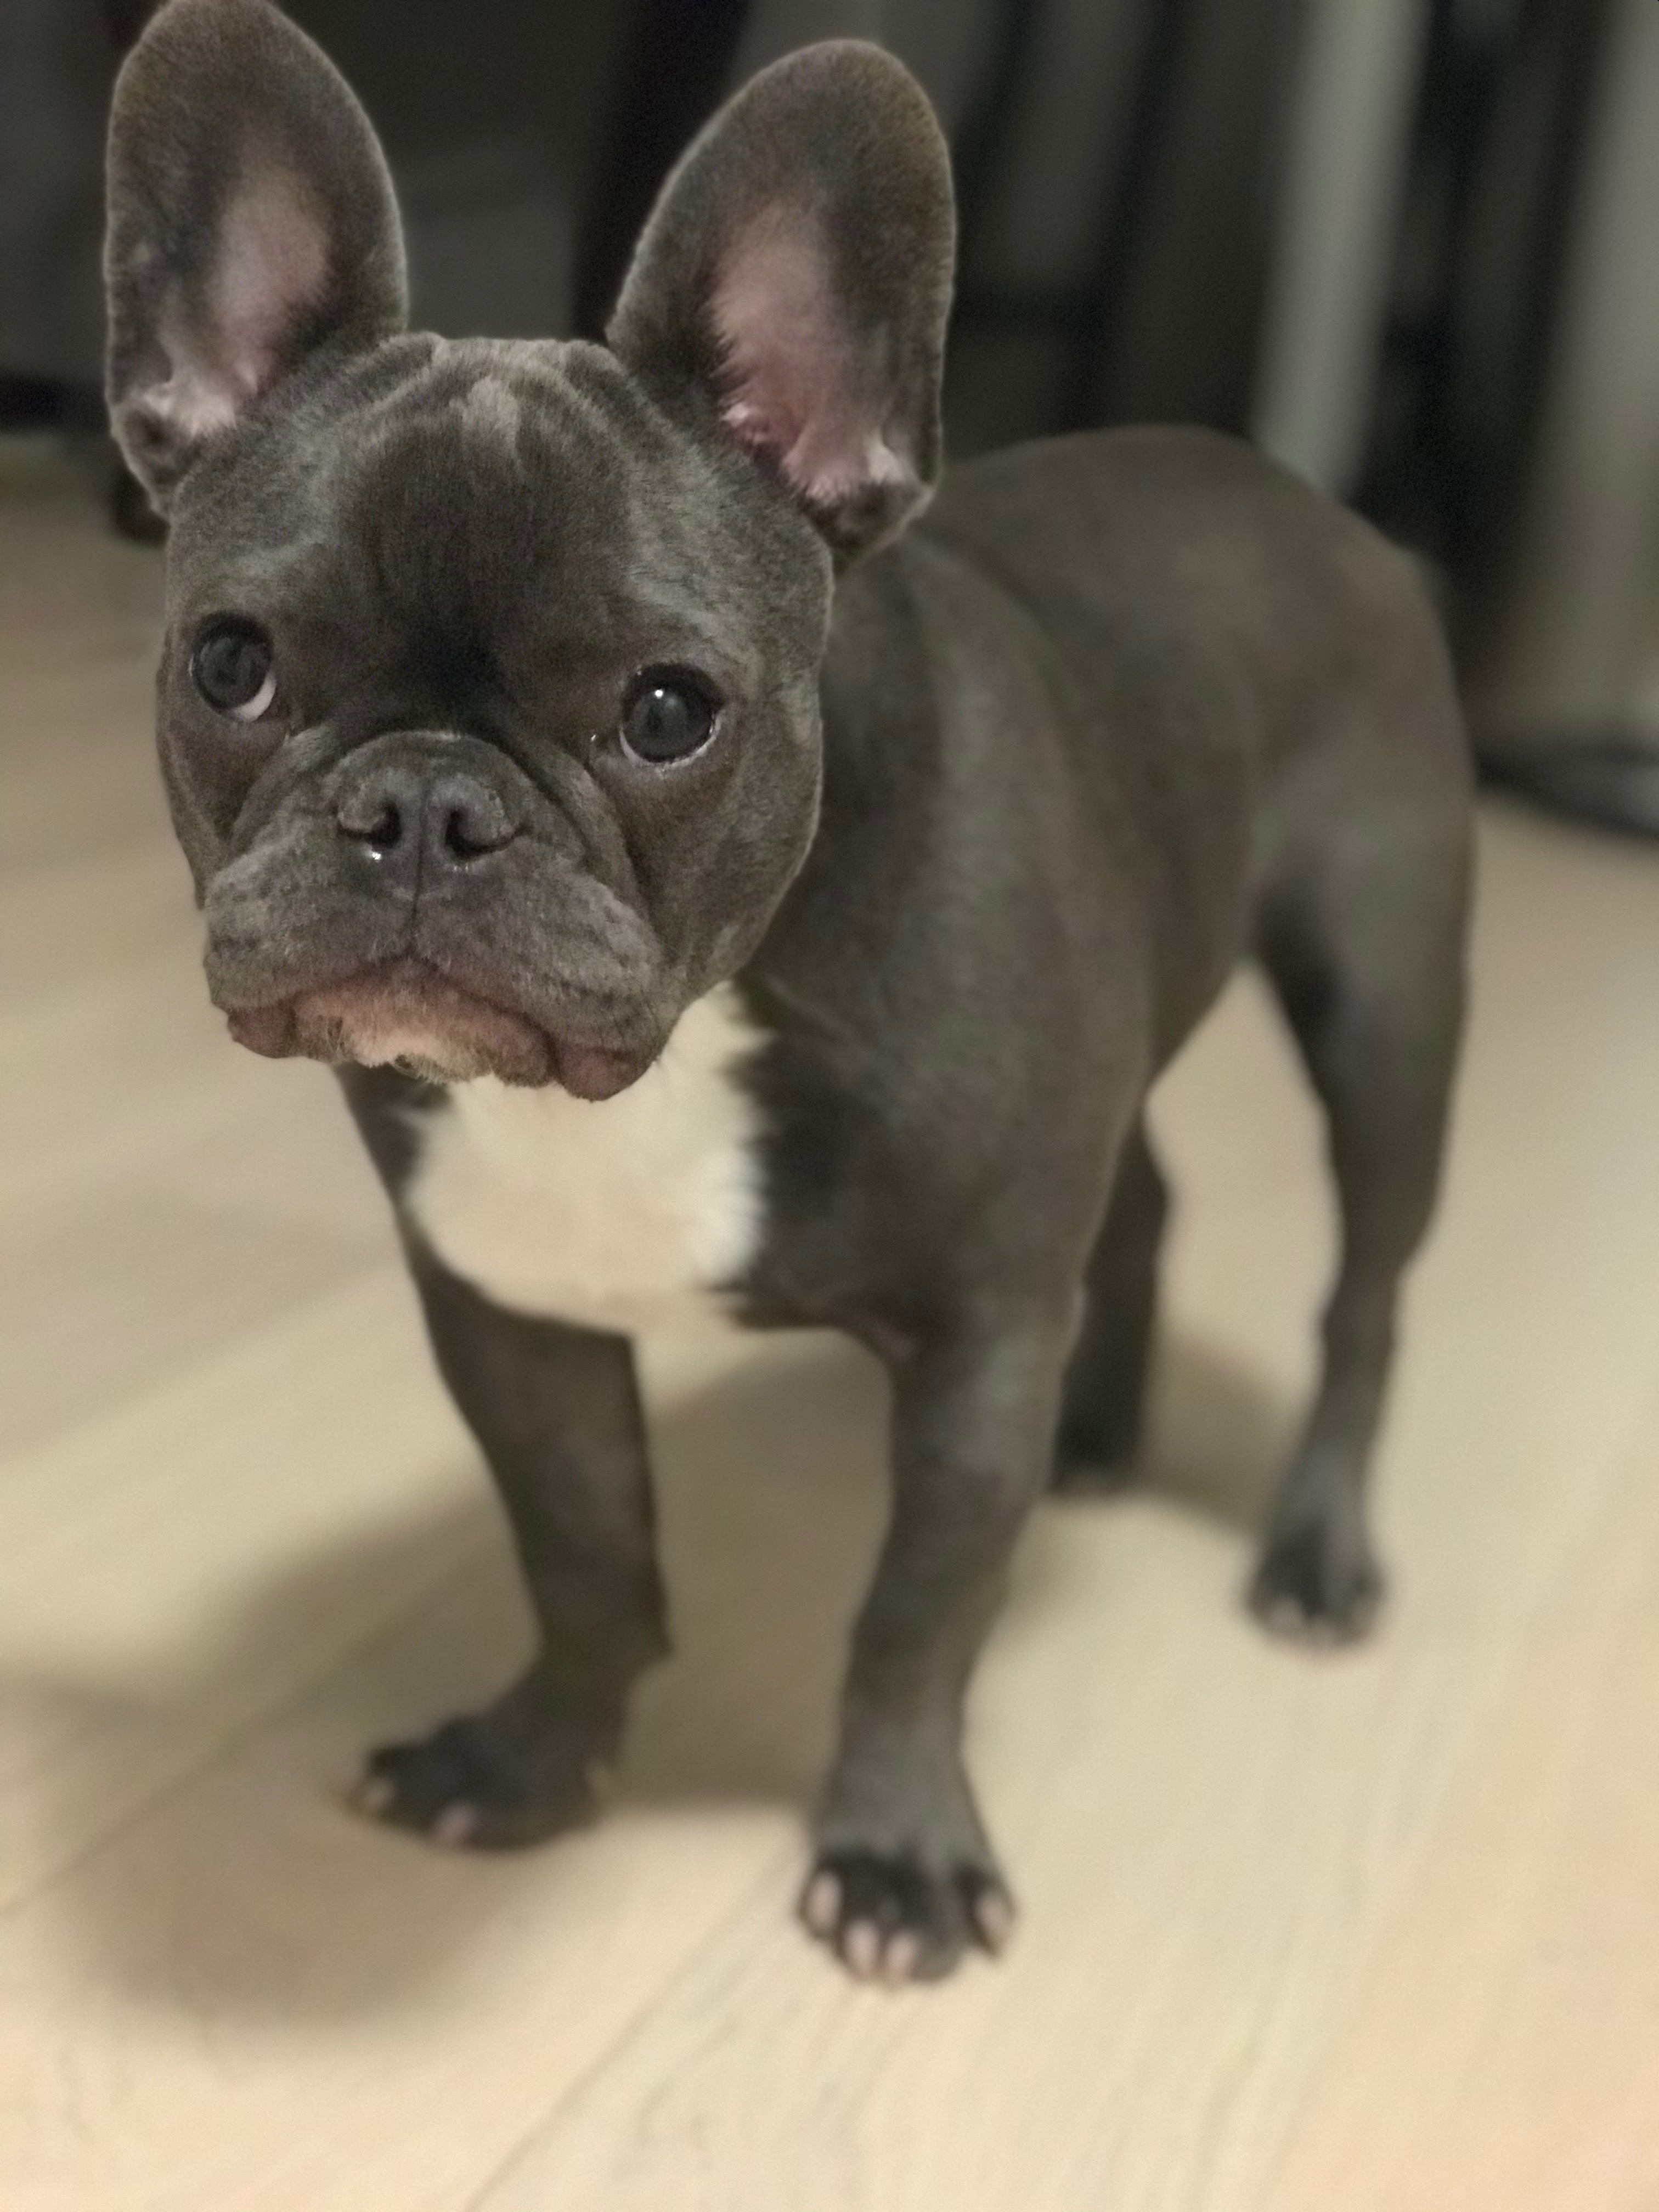lucy: (85, 3, 1486, 2003)
